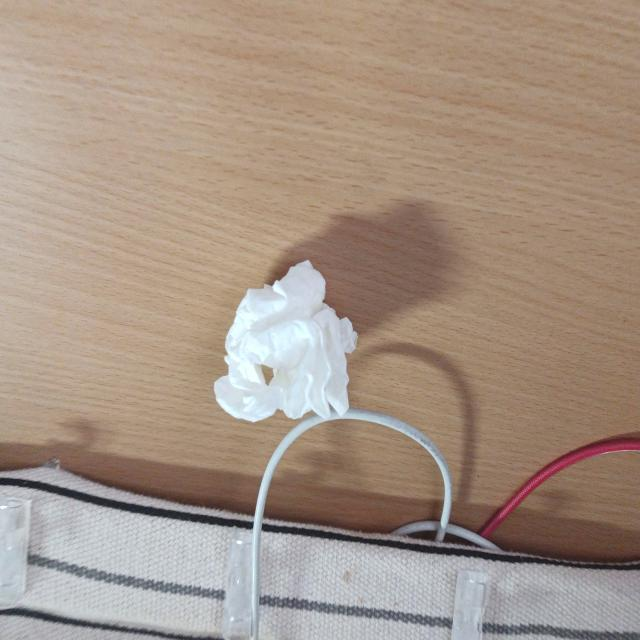Paper: (191, 254, 367, 468)
